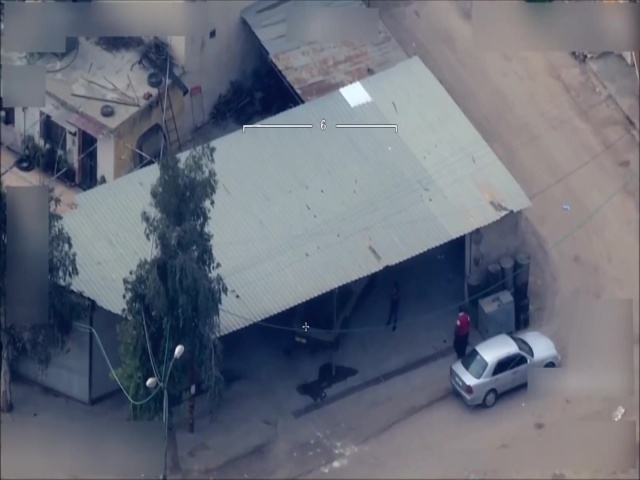person: (383, 278, 404, 332), (451, 305, 470, 362)
vehicle: (450, 330, 560, 408)
